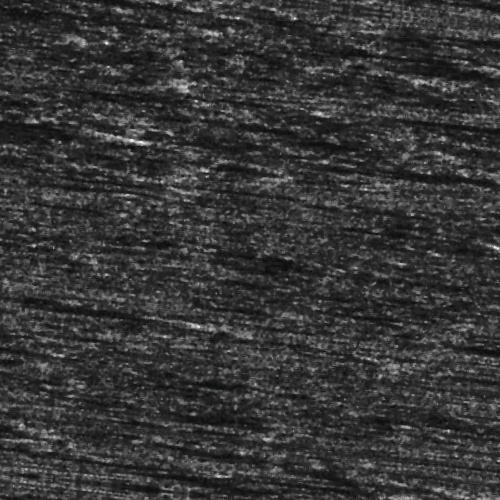object: (149, 319, 264, 336), (8, 450, 101, 459), (56, 144, 129, 155), (137, 30, 190, 41), (50, 374, 71, 395), (299, 188, 352, 193), (457, 214, 500, 219), (446, 37, 477, 42), (413, 473, 434, 478), (191, 16, 222, 19)
shadow: (86, 319, 206, 336), (0, 30, 164, 41), (306, 148, 500, 155), (0, 374, 61, 395), (378, 11, 500, 20), (0, 144, 92, 155), (286, 37, 462, 42), (319, 214, 483, 219), (261, 473, 424, 478), (372, 98, 500, 103), (208, 188, 325, 193), (0, 450, 55, 459), (82, 16, 206, 19), (433, 492, 500, 495), (220, 431, 277, 434)
